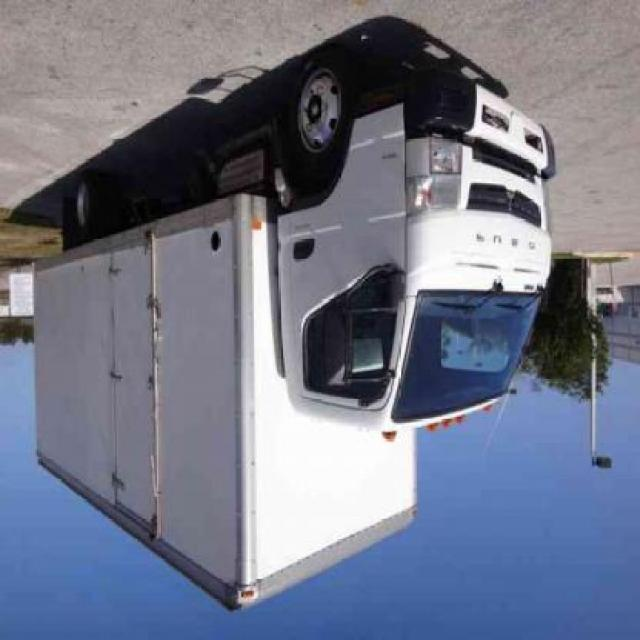truck: (34, 55, 557, 615)
